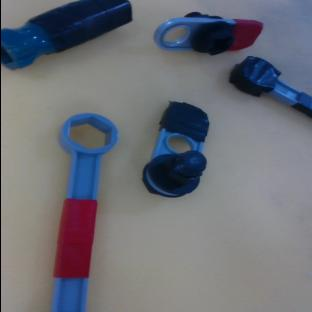part_1_bad: (133, 96, 223, 208)
part_1_good: (151, 7, 262, 63)
part_3_good: (24, 108, 121, 312)
